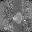people: (12, 12, 23, 24)
